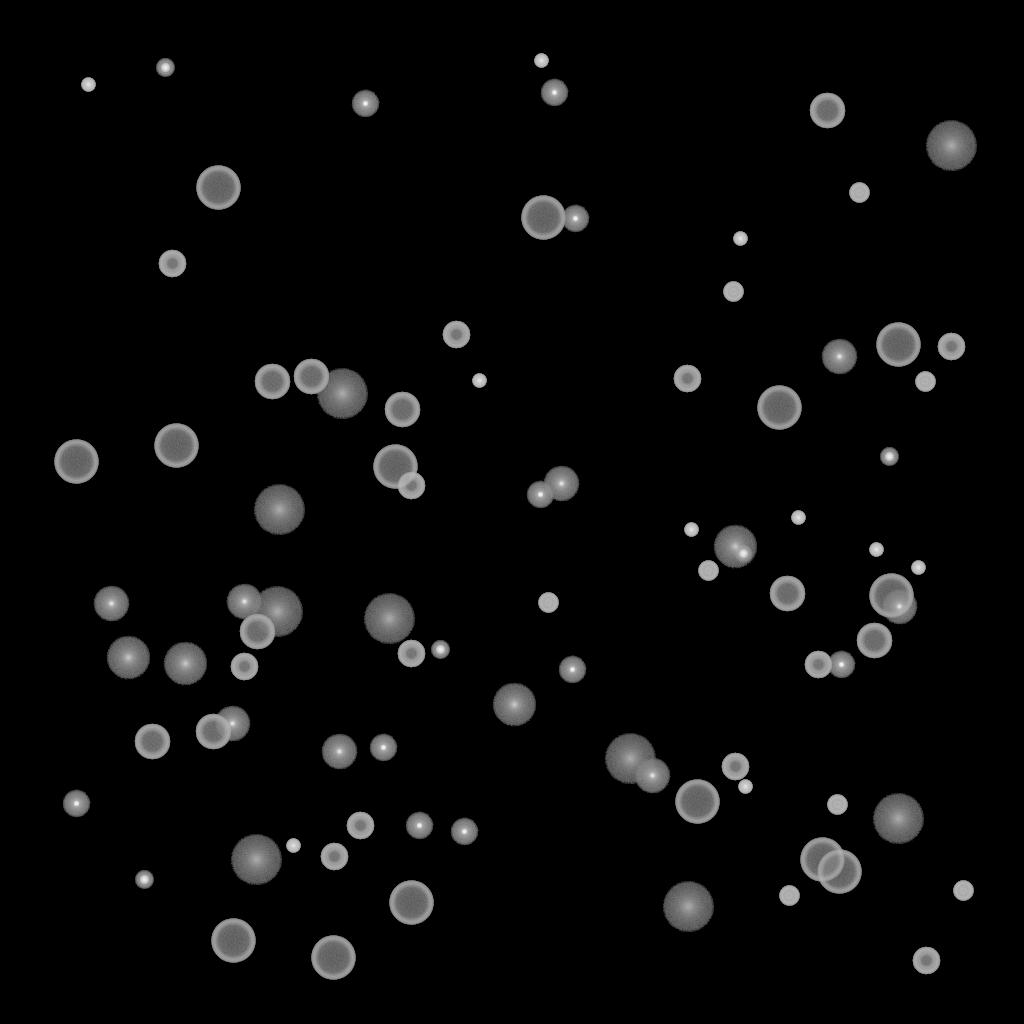depth:-10: (558, 656, 586, 684), (450, 818, 478, 846), (561, 205, 589, 233), (526, 481, 554, 509), (351, 90, 379, 118), (369, 734, 397, 762), (540, 79, 568, 107), (827, 651, 855, 679), (62, 790, 90, 818), (405, 812, 433, 840)
depth:-20: (734, 545, 752, 563), (135, 871, 153, 889), (431, 641, 449, 659), (880, 448, 898, 466), (156, 59, 174, 77)
depth:-30: (791, 511, 805, 525), (684, 523, 698, 537), (472, 374, 486, 388), (81, 78, 95, 92), (911, 561, 925, 575), (733, 232, 747, 246), (286, 839, 300, 853), (869, 543, 883, 557), (534, 54, 548, 68), (738, 780, 752, 794)
depth:-40: (779, 886, 799, 906), (953, 881, 973, 901), (723, 282, 743, 302), (538, 593, 558, 613), (849, 183, 869, 203), (827, 795, 847, 815), (915, 372, 935, 392), (698, 561, 718, 581)
depth:-50: (397, 472, 425, 500), (397, 640, 425, 668), (804, 651, 832, 679), (721, 753, 749, 781), (912, 947, 940, 975), (320, 843, 348, 871), (442, 321, 470, 349), (230, 653, 258, 681), (346, 812, 374, 840), (937, 333, 965, 361), (158, 250, 186, 278), (673, 365, 701, 393)
depth:-60: (856, 623, 892, 659), (195, 714, 231, 750), (293, 359, 329, 395), (769, 576, 805, 612), (809, 93, 845, 129), (384, 392, 420, 428), (134, 724, 170, 760), (239, 614, 275, 650), (254, 364, 290, 400)
depth:-70: (54, 440, 98, 484), (211, 919, 255, 963), (869, 574, 913, 618), (154, 424, 198, 468), (675, 780, 719, 824), (757, 386, 801, 430), (521, 196, 565, 240), (373, 445, 417, 489), (389, 881, 433, 925), (876, 323, 920, 367), (311, 936, 355, 980), (817, 850, 861, 894), (800, 838, 844, 882), (196, 166, 240, 210)
depth:0: (214, 706, 250, 742), (321, 734, 357, 770), (821, 339, 857, 375), (881, 589, 917, 625), (93, 586, 129, 622), (543, 466, 579, 502), (226, 584, 262, 620), (634, 758, 670, 794)
depth:10: (492, 683, 536, 727), (713, 525, 757, 569), (163, 642, 207, 686), (106, 636, 150, 680)
depth:20: (872, 794, 924, 844), (604, 734, 656, 784), (230, 835, 282, 885), (316, 369, 368, 419), (925, 121, 977, 171), (253, 485, 305, 535), (662, 882, 714, 932), (363, 594, 415, 644), (251, 587, 303, 637)
